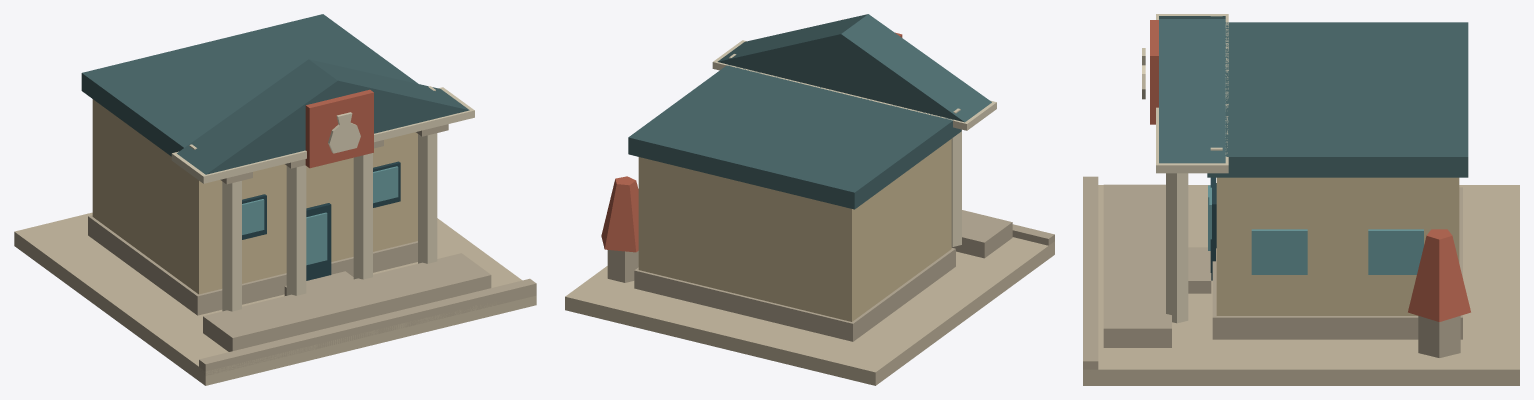
File: museum-complete.glb
The picture shows the model from 3 angles, left to right: view 1: azimuth 30°, elevation 25°; view 2: azimuth 150°, elevation 25°; view 3: azimuth 270°, elevation 25°; orthographic projection. The views are drawn at different scales.
Visible parts, largest first — view 1: museum; view 2: museum; view 3: museum.
Boxes of the visible parts, x1,y1,x2,y2 form: museum: (14,14,536,385); museum: (565,14,1054,385); museum: (1083,14,1519,385).
Bounding box in the file's own units: 2.88 × 2 × 2.88.
